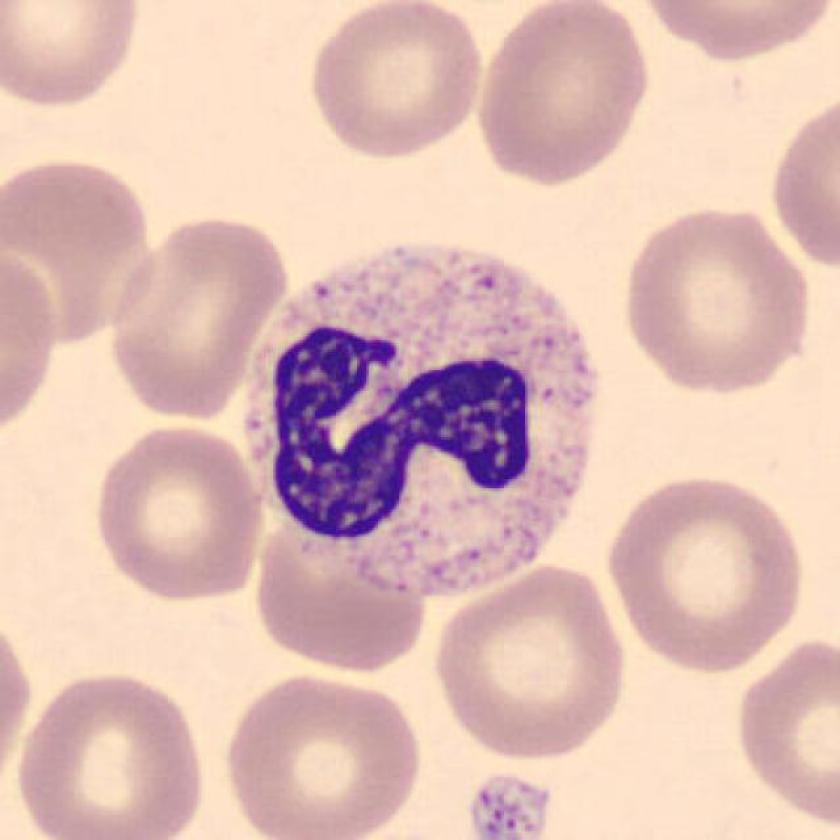neutrophil: (241, 237, 600, 605)
